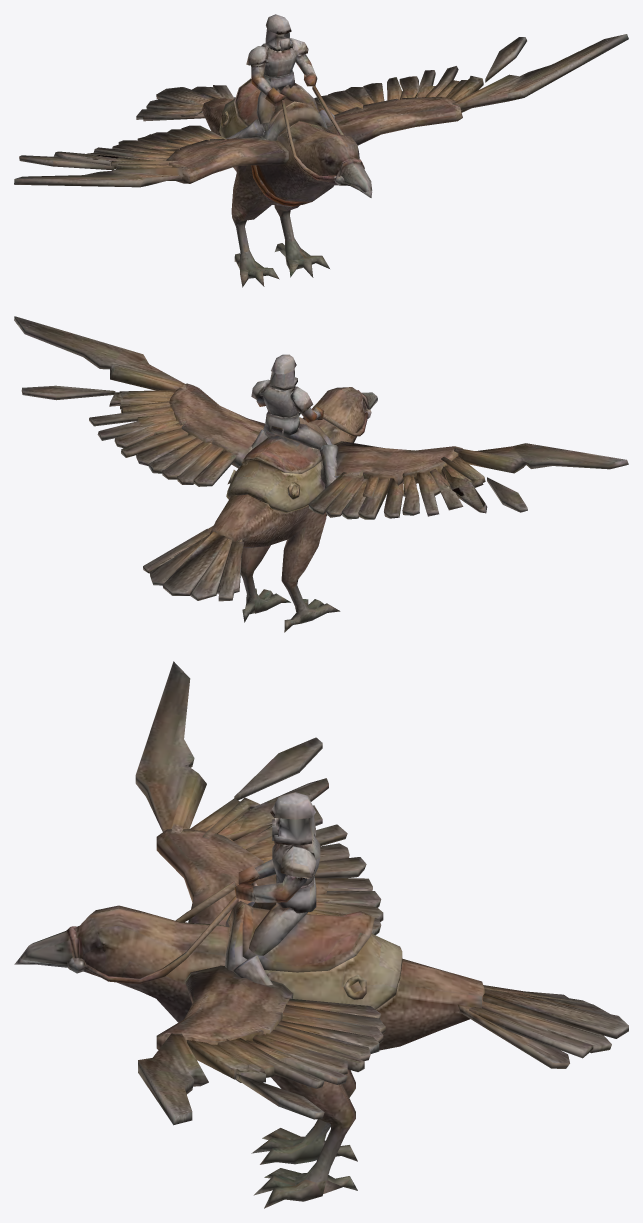
File: crow-rider-fantasy-low.glb
3 views of the same model, one above another, from view 1: azimuth 30°, elevation 25°; view 2: azimuth 150°, elevation 25°; view 3: azimuth 270°, elevation 25° (orthographic). The views are drawn at different scales.
Visible parts, largest first — view 1: tripo_node_e85b9089-4e45-4824-8e33-5560a8539b06; view 2: tripo_node_e85b9089-4e45-4824-8e33-5560a8539b06; view 3: tripo_node_e85b9089-4e45-4824-8e33-5560a8539b06.
Boxes of the visible parts, x1,y1,x2,y2 form: tripo_node_e85b9089-4e45-4824-8e33-5560a8539b06: [14, 14, 628, 287]; tripo_node_e85b9089-4e45-4824-8e33-5560a8539b06: [14, 316, 628, 632]; tripo_node_e85b9089-4e45-4824-8e33-5560a8539b06: [14, 661, 628, 1208].
Size of the model in its own units: 0.9922 by 0.3973 by 0.5734.
1 material, 1 textured.
